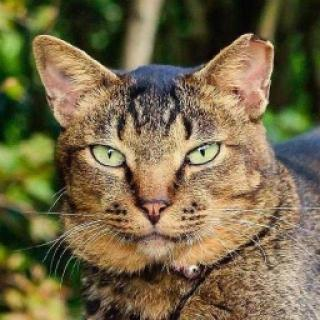cat: (35, 20, 277, 277)
nose: (129, 181, 183, 226)
